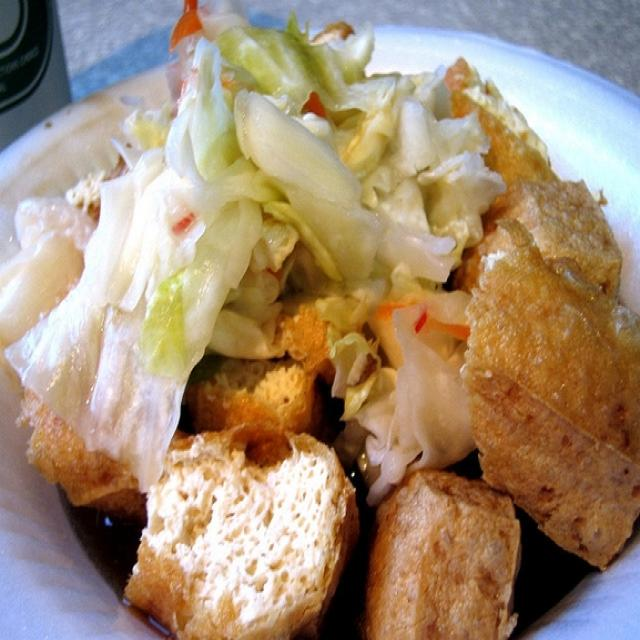豆腐料理: (21, 15, 621, 624)
